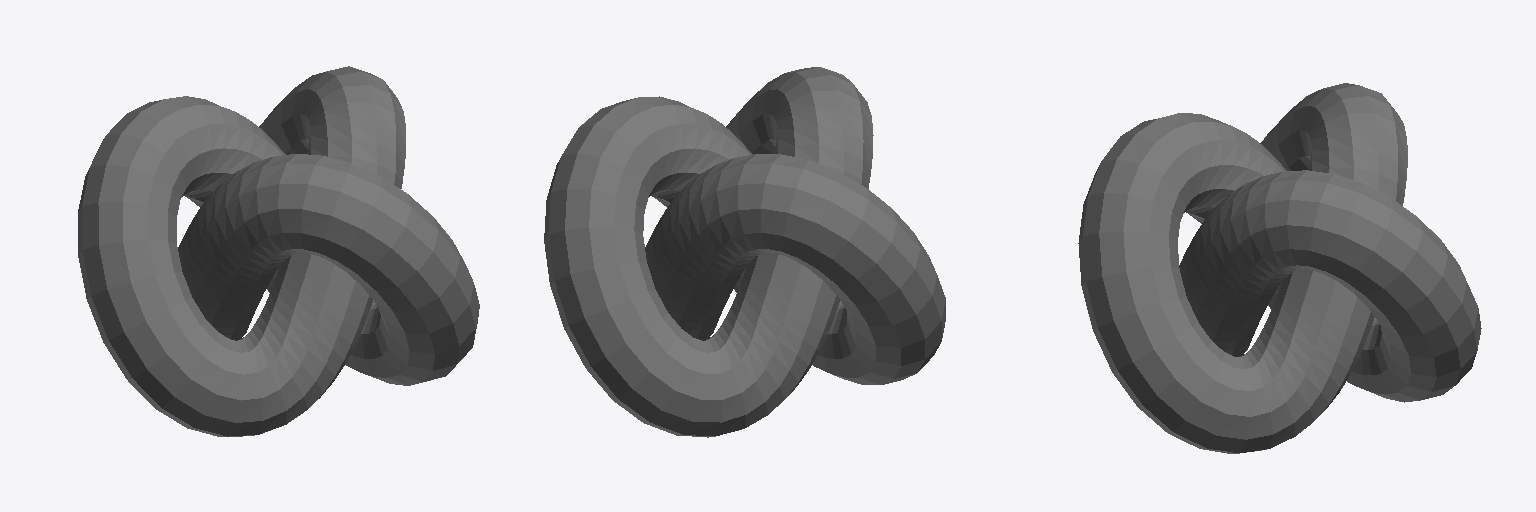
The model's file is knot.obj.
3 views of the same model, side by side, from view 1: azimuth 30°, elevation 25°; view 2: azimuth 150°, elevation 25°; view 3: azimuth 270°, elevation 25° (orthographic).
Bounding box in the file's own units: 3.81 × 3.02 × 4.04.